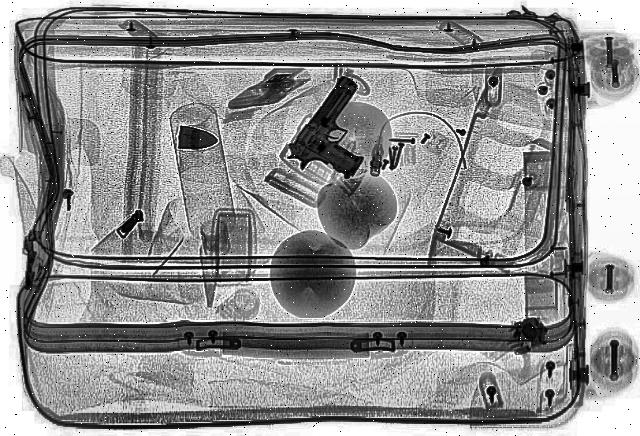Gun: (280, 75, 412, 183)
